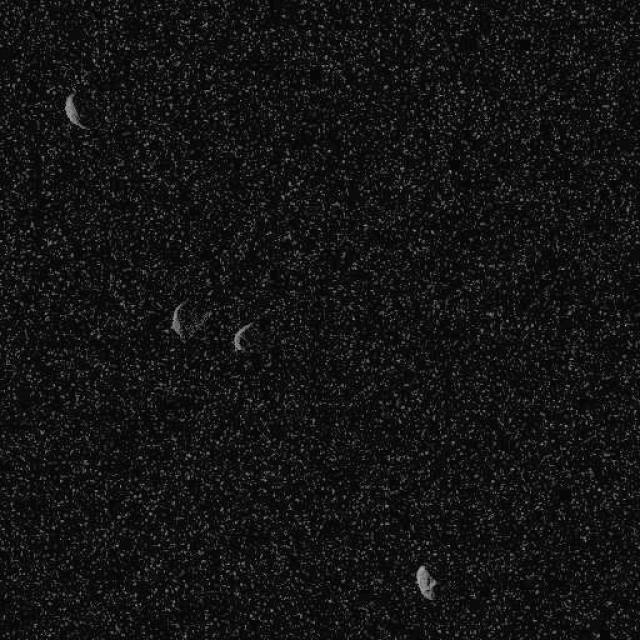D2: (168, 298, 212, 342), (62, 89, 94, 130), (414, 562, 438, 602), (232, 320, 256, 354)
